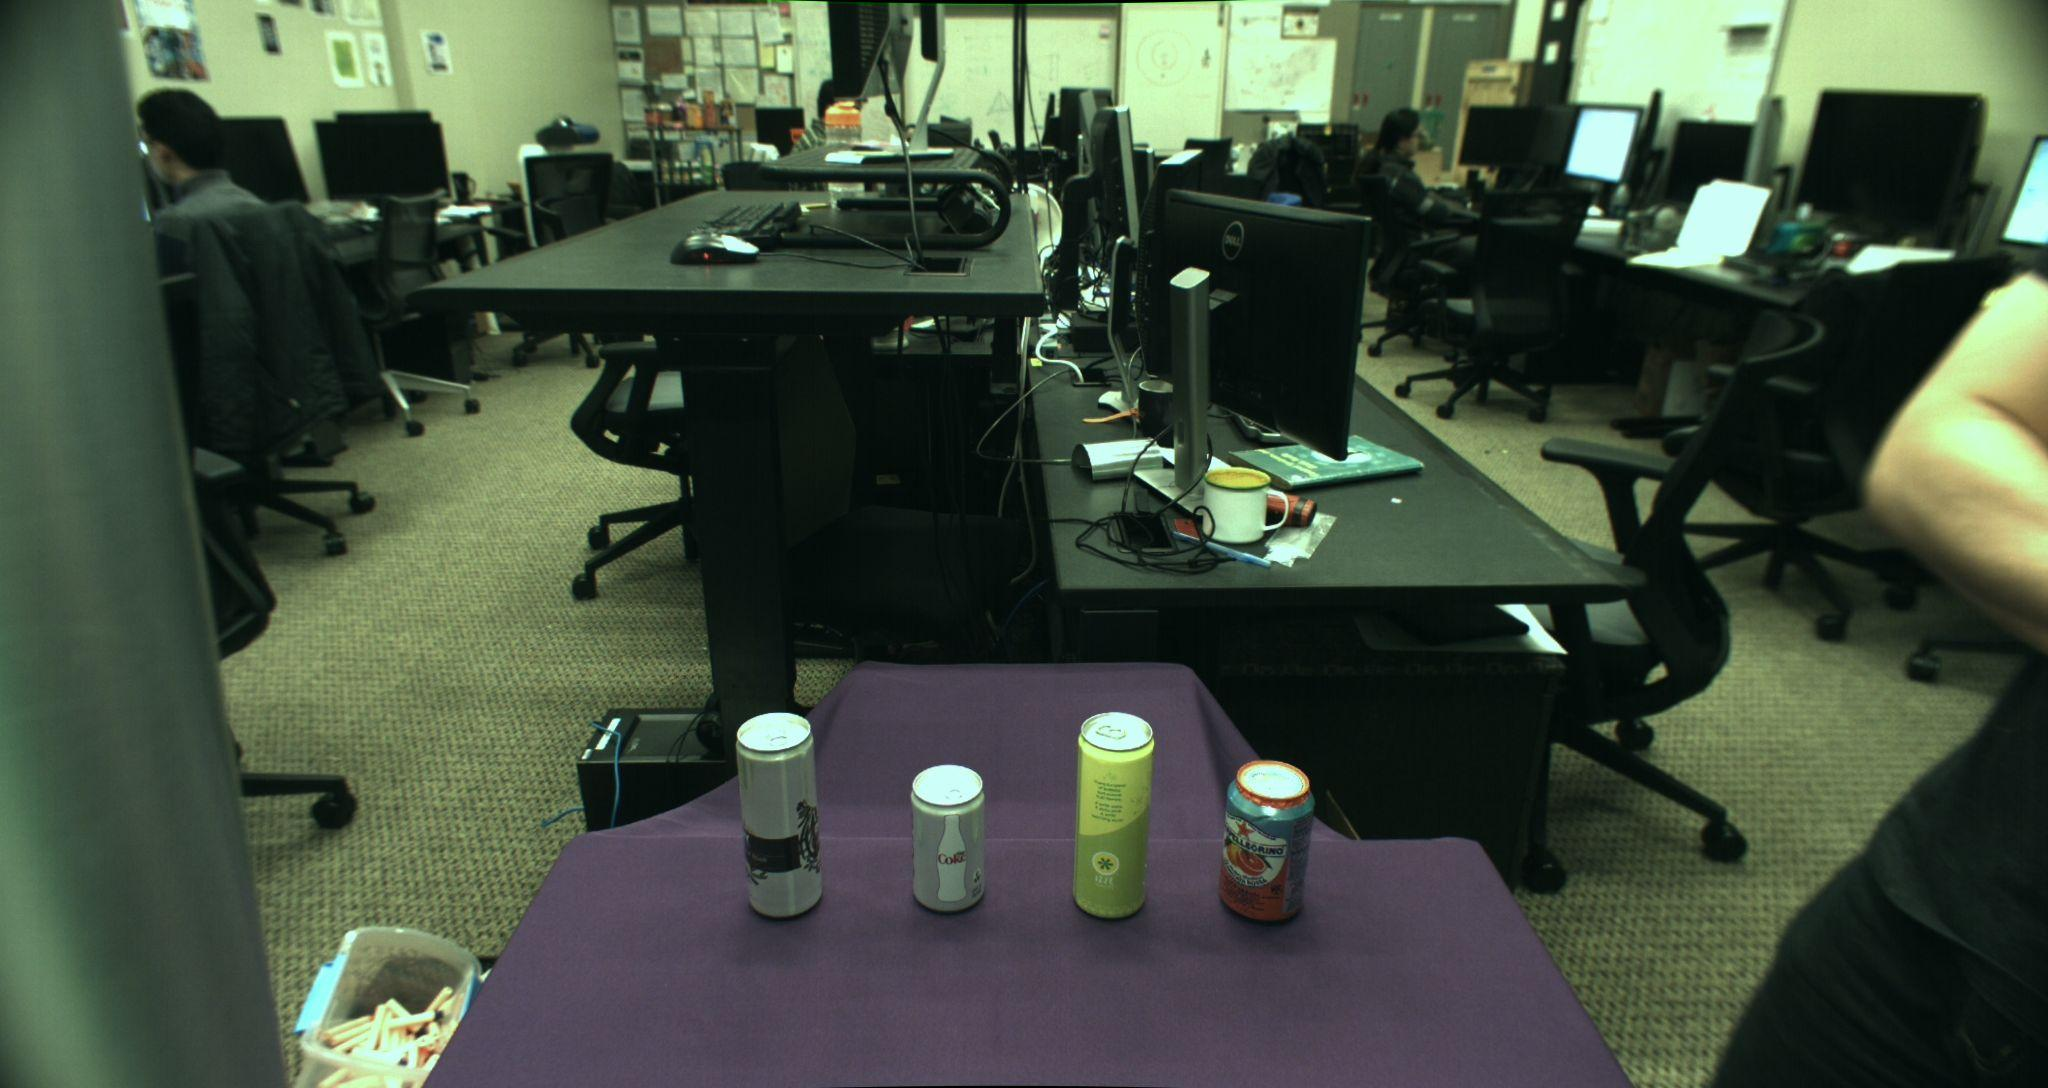can_diet_coke_small: (909, 763, 986, 912)
can_dry_sparkling_vanilla_bean: (735, 711, 824, 919)
can_izze_fusions_lemon_lime: (1071, 710, 1155, 919)
can_sanpellegrino_blood_orange: (1220, 760, 1317, 925)
